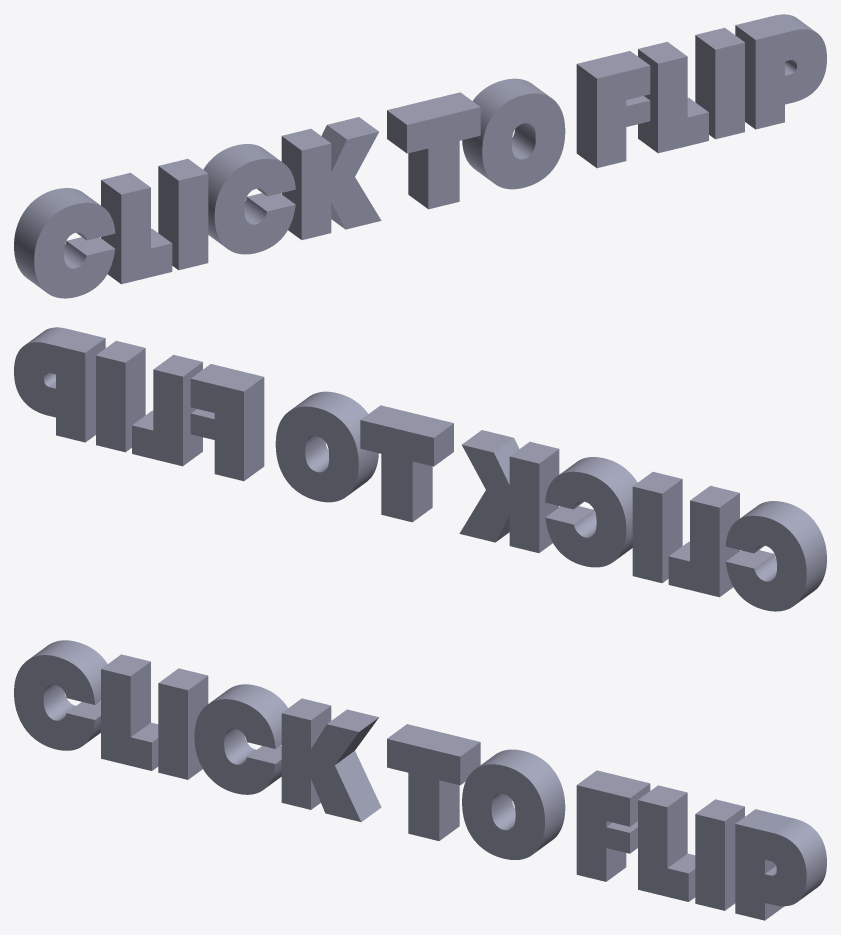
File: clickFlip.glb
3 views of the same model, one above another, from view 1: azimuth 30°, elevation 25°; view 2: azimuth 150°, elevation 25°; view 3: azimuth 330°, elevation 25° (orthographic).
Parts seen in each view (by area): view 1: clickFlip; view 2: clickFlip; view 3: clickFlip.
Part boxes in pixels (x1,y1,x2,y2): clickFlip: [14, 14, 826, 298]; clickFlip: [14, 327, 826, 611]; clickFlip: [14, 640, 826, 920].
Size of the model in its own units: 5.43 by 0.6074 by 0.2399.
